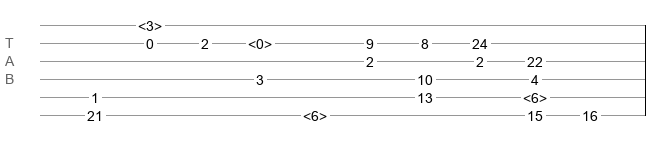0: (146, 36, 154, 46)
1: (91, 90, 99, 100)
10: (417, 72, 433, 82)
13: (417, 90, 433, 100)
15: (527, 108, 543, 118)
16: (582, 108, 598, 118)
2: (201, 36, 209, 46), (366, 54, 374, 64), (476, 54, 484, 64)
21: (87, 108, 103, 118)
22: (527, 54, 543, 64)
24: (472, 36, 488, 46)
3: (256, 72, 264, 82)
4: (531, 72, 539, 82)
8: (421, 36, 429, 46)
9: (366, 36, 374, 46)
harmonic: (138, 18, 162, 28), (248, 36, 272, 46), (303, 108, 327, 118), (523, 90, 547, 100)
